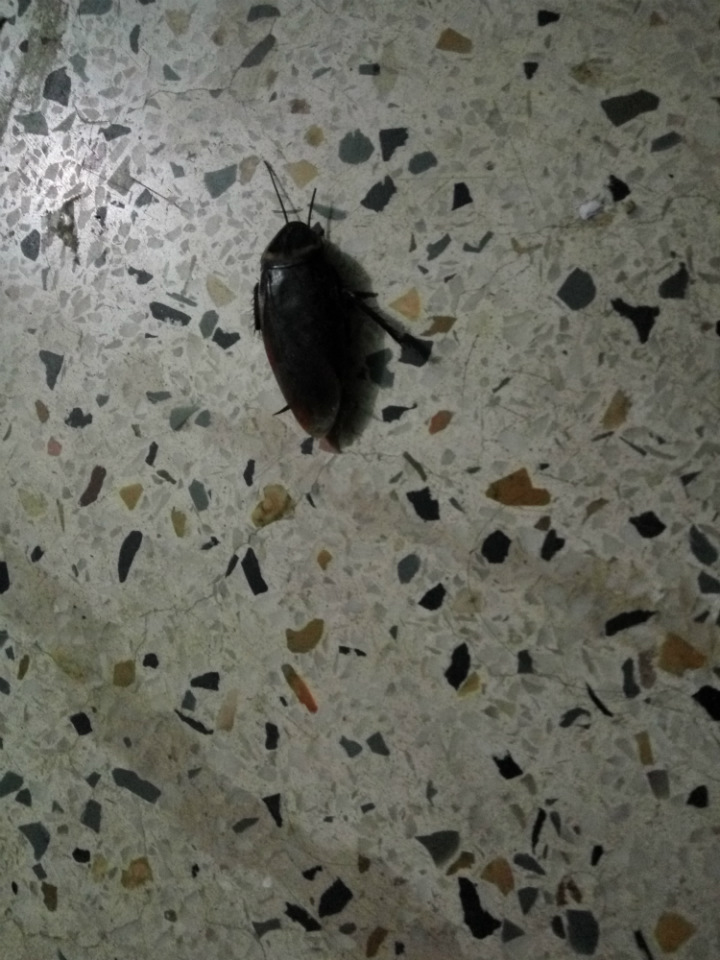cockroach: (193, 121, 498, 513)
